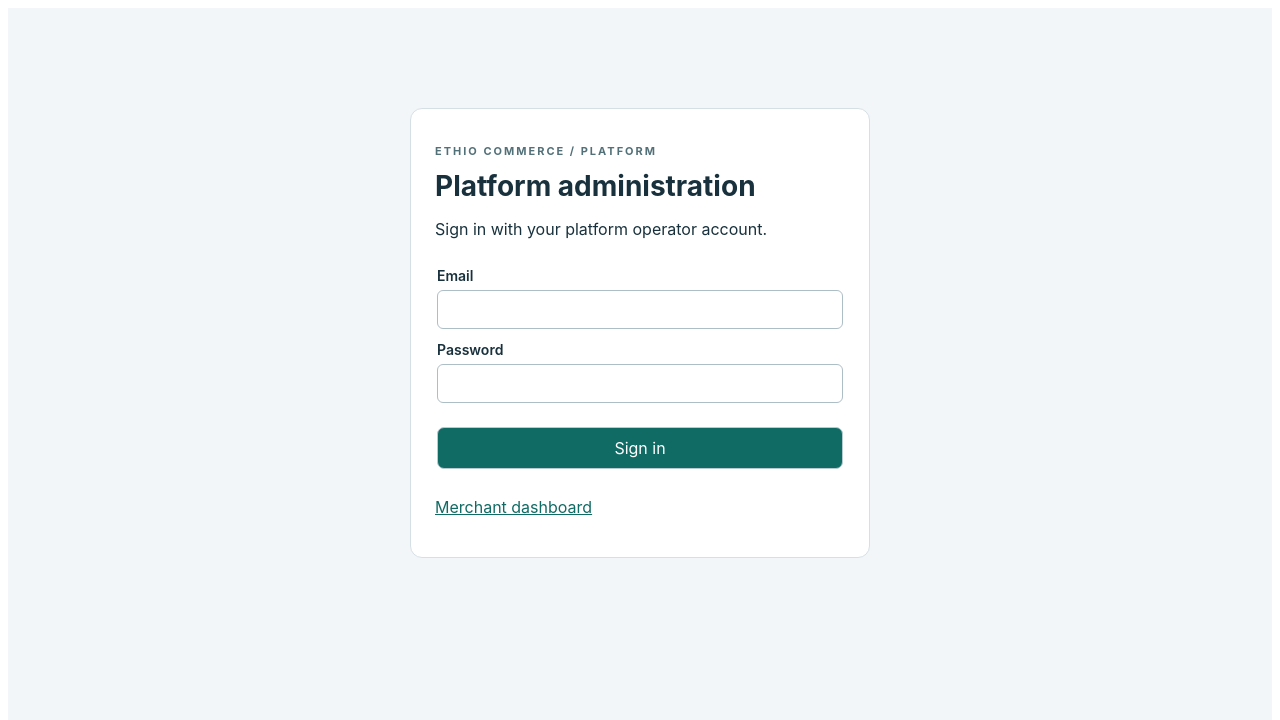
Scenario: platform session isolation UI › prevents overlapping platform login requests from rapid submissions
Type "a@example.com" into the field labelled "Email" at (640, 310), box [437,290,843,329]
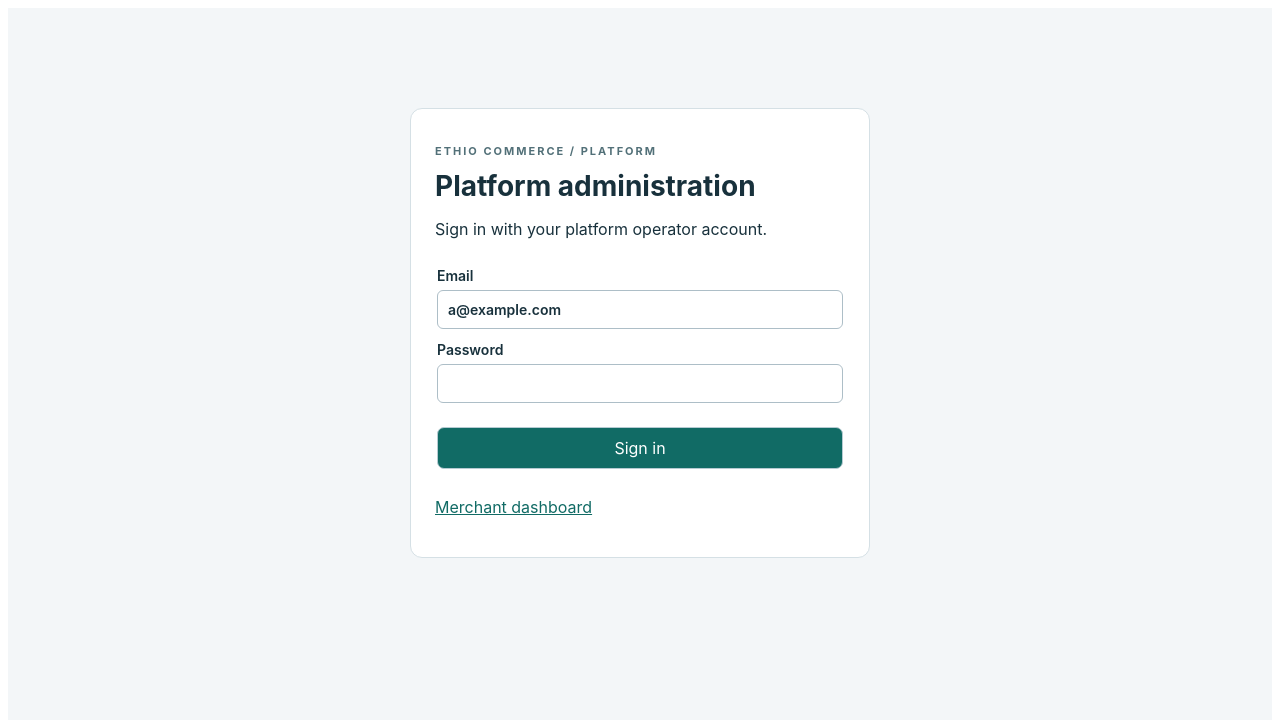
Type "test-password" into the password field labelled "Password" at (640, 384), box [437,364,843,403]
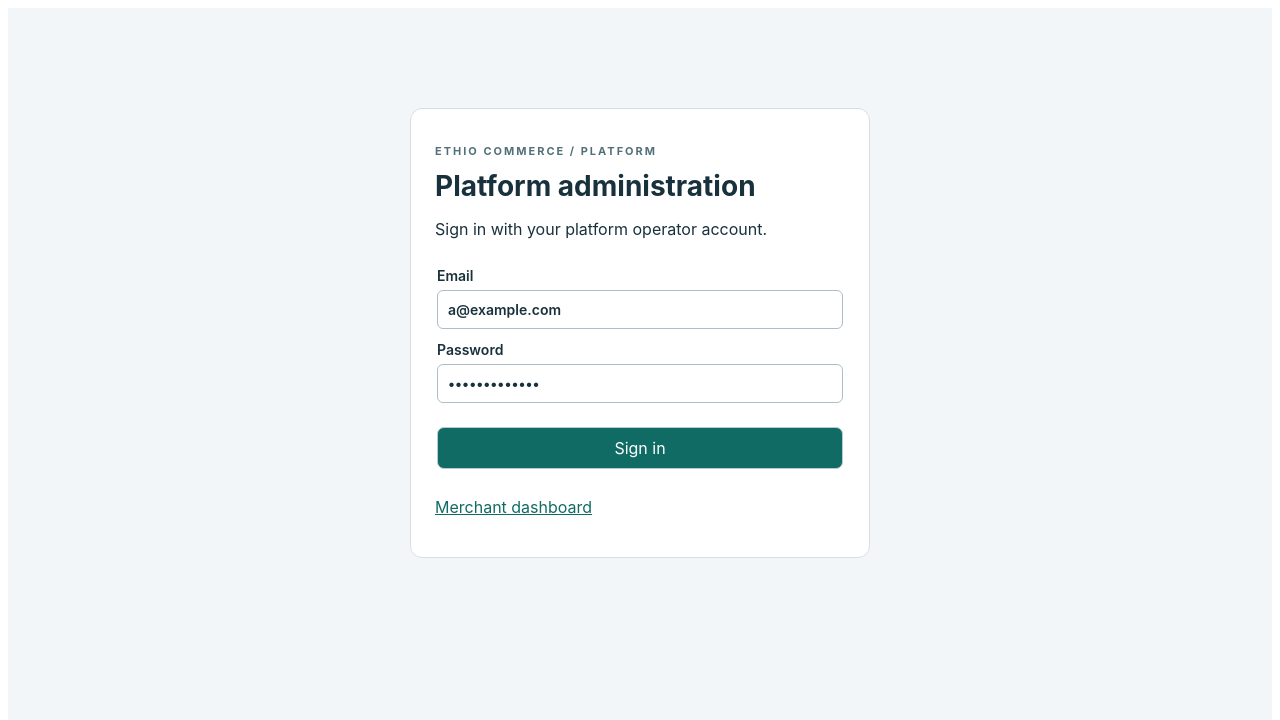
Submit the form "Sign in", box [435,255,845,481]
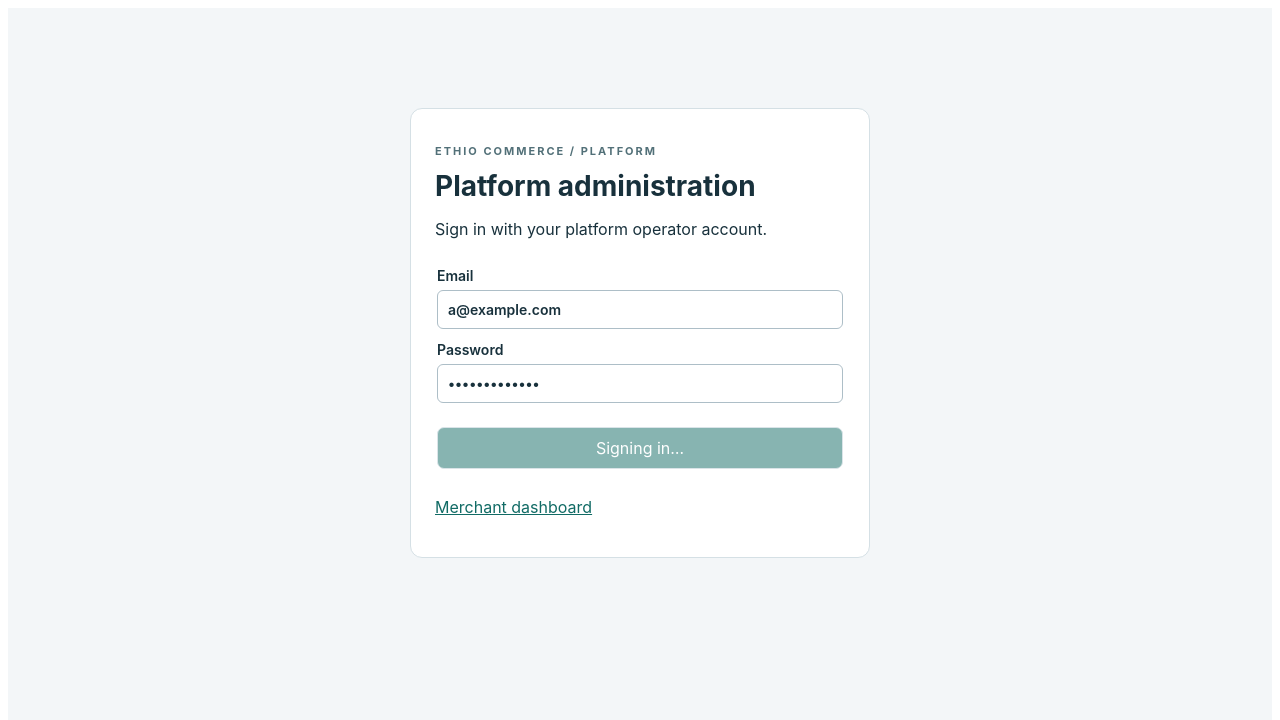
Submit the form named "Sign in", box [435,255,845,481]
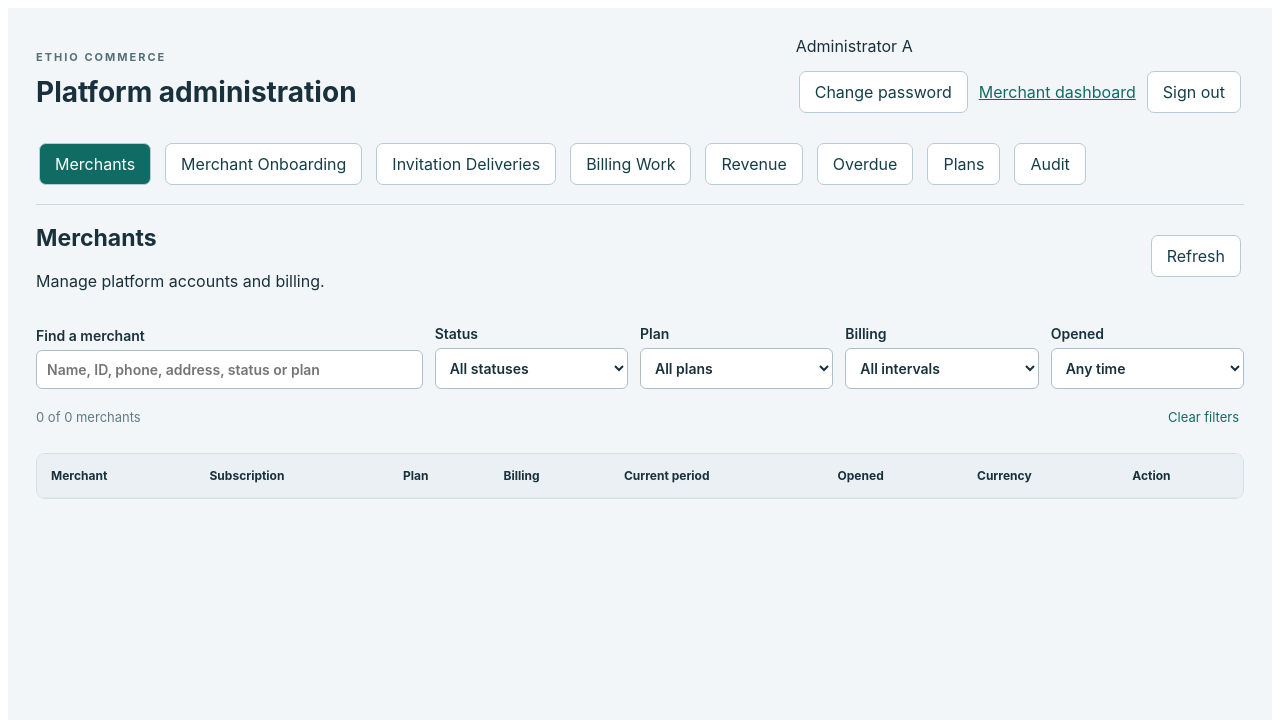
Check: the text "Administrator A" is shown, box [796,36,913,56]
